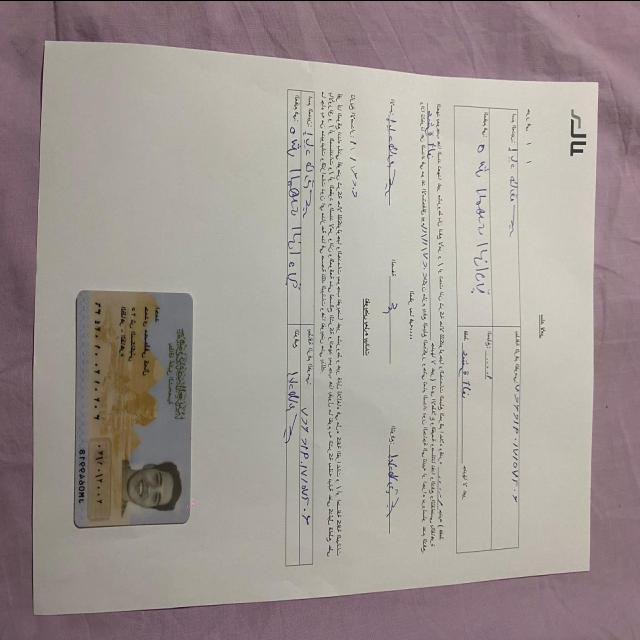id_card: (71, 286, 197, 532)
